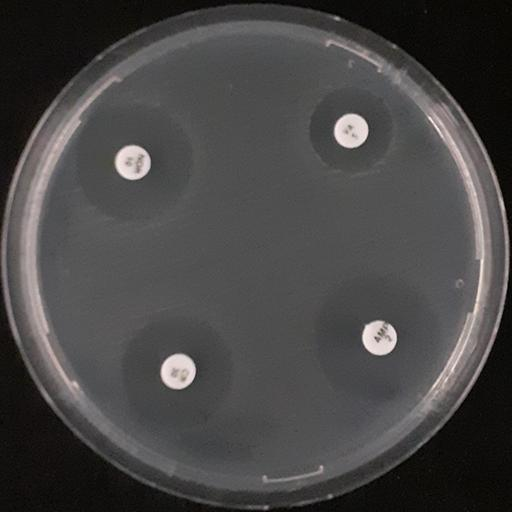disc: (333, 114, 369, 149), (161, 354, 196, 390), (362, 320, 397, 356), (116, 145, 150, 180)
